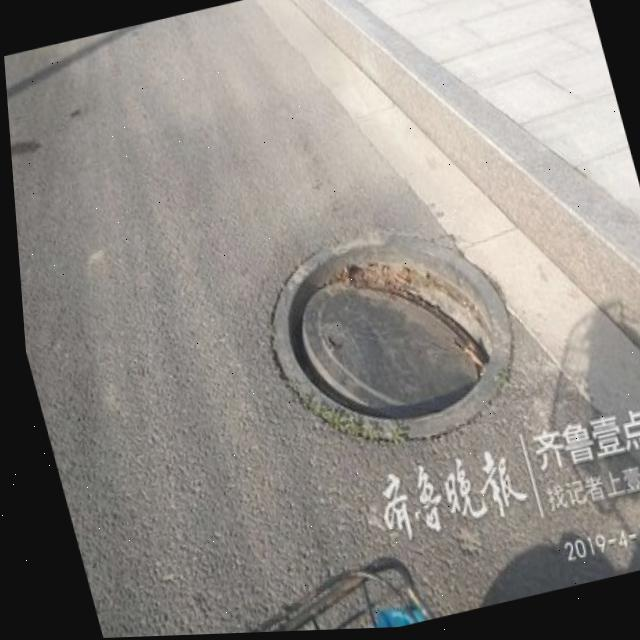manhole: (244, 203, 524, 462)
